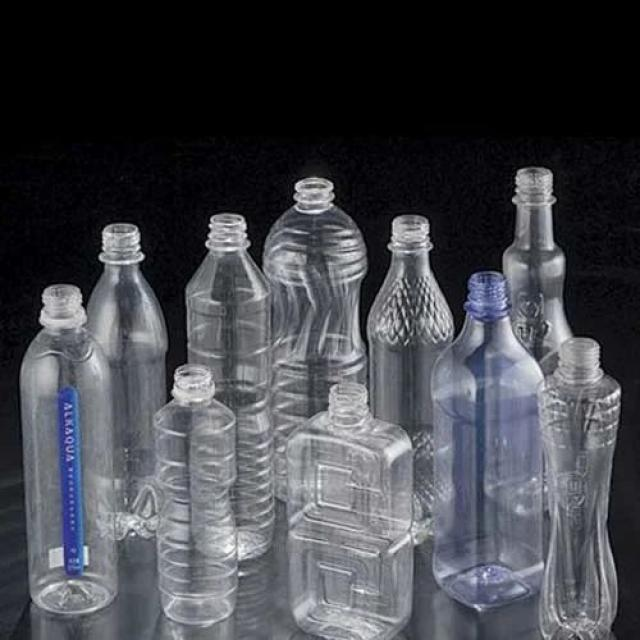plastic_bottle: (171, 186, 293, 552), (355, 218, 487, 548), (14, 269, 116, 639), (128, 359, 252, 640), (444, 250, 537, 586), (289, 355, 392, 616), (538, 334, 624, 640)
